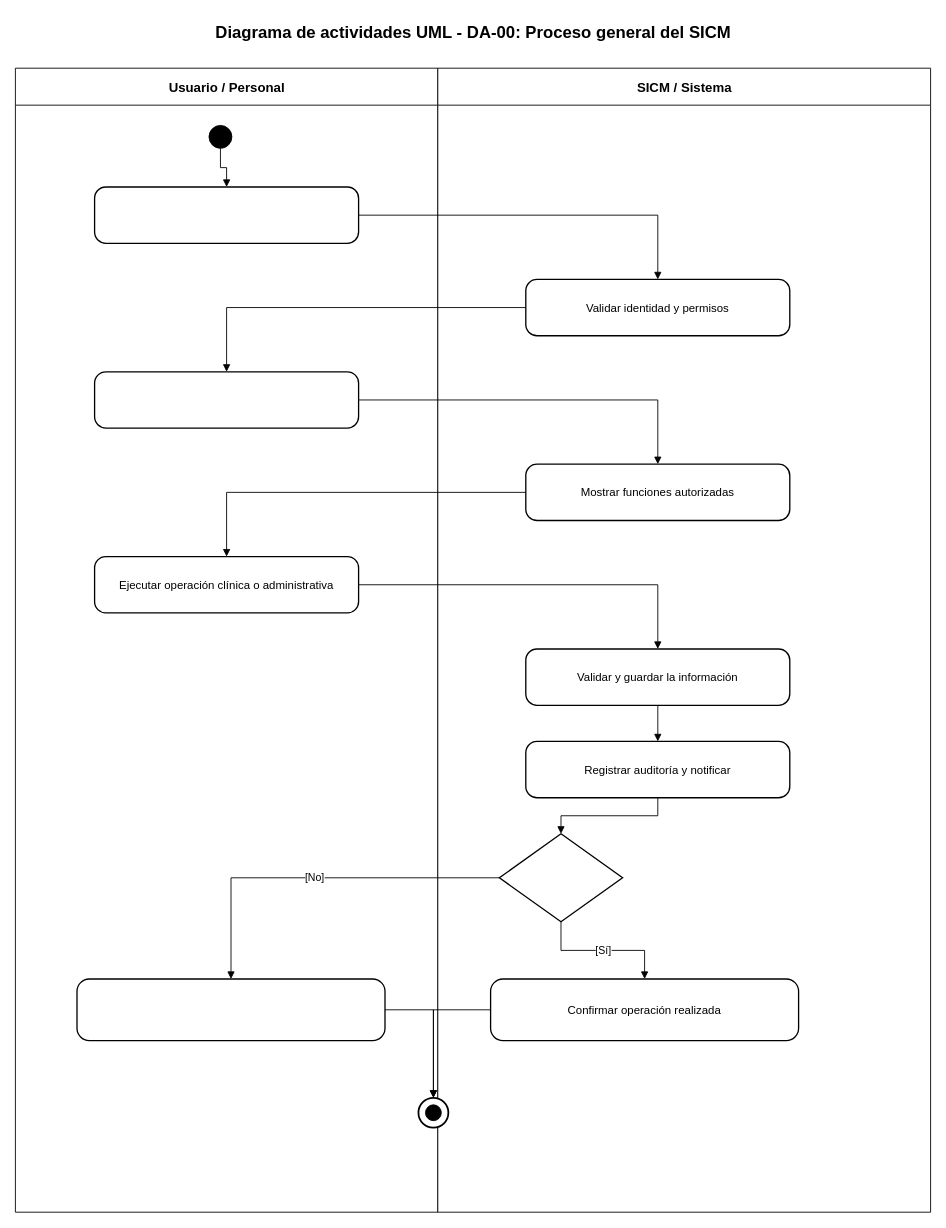
Some shapes in this 946 by 1228 pixel diagram are drawn without their labels. Here are the shapes that lost their labels. From the top down, the centre of each, then its label:
At (226,215): "Iniciar sesión".
At (226,399): "Seleccionar módulo según el rol".
At (560,877): "¿La operación es válida?".
At (230,1009): "Mostrar error y permitir corrección".
